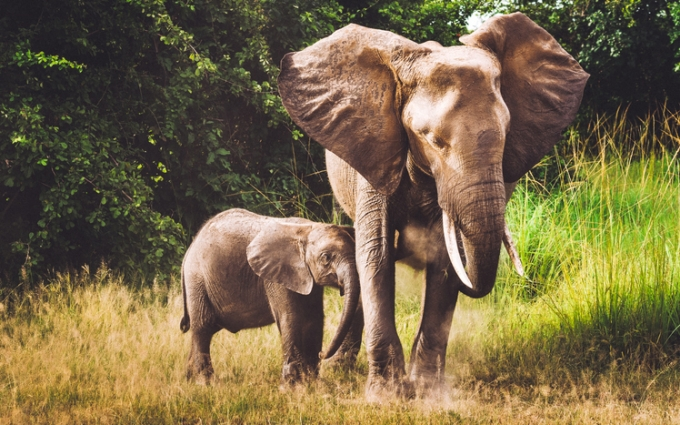Elephant: (279, 5, 591, 405)
